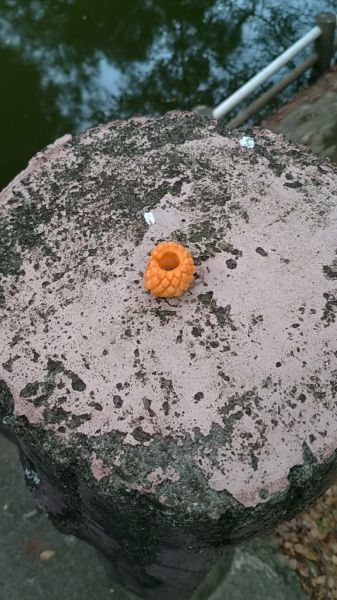eggs: (137, 238, 200, 302)
